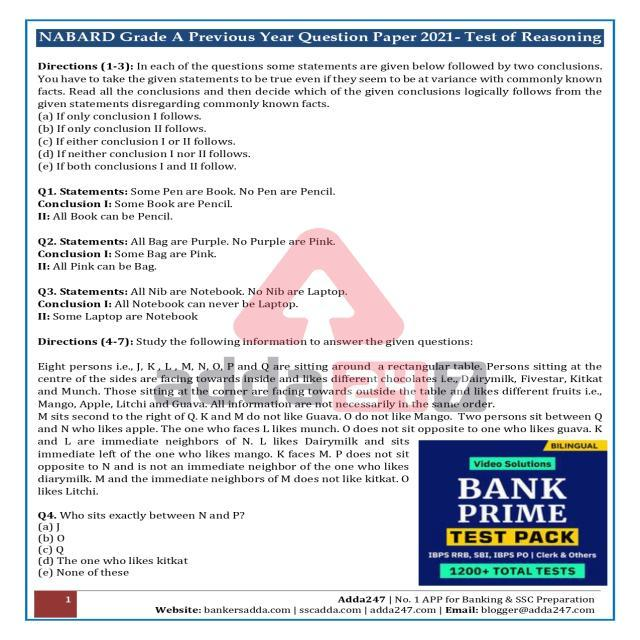Answer_Block: (30, 523, 610, 586)
Instruction: (26, 324, 614, 503), (26, 58, 614, 174)
Question_Answer_Block: (27, 506, 614, 582)
Question_Block: (25, 174, 616, 224), (24, 288, 614, 324), (26, 236, 612, 272), (29, 502, 607, 528)
Question_Paper_Area: (24, 56, 610, 584)
